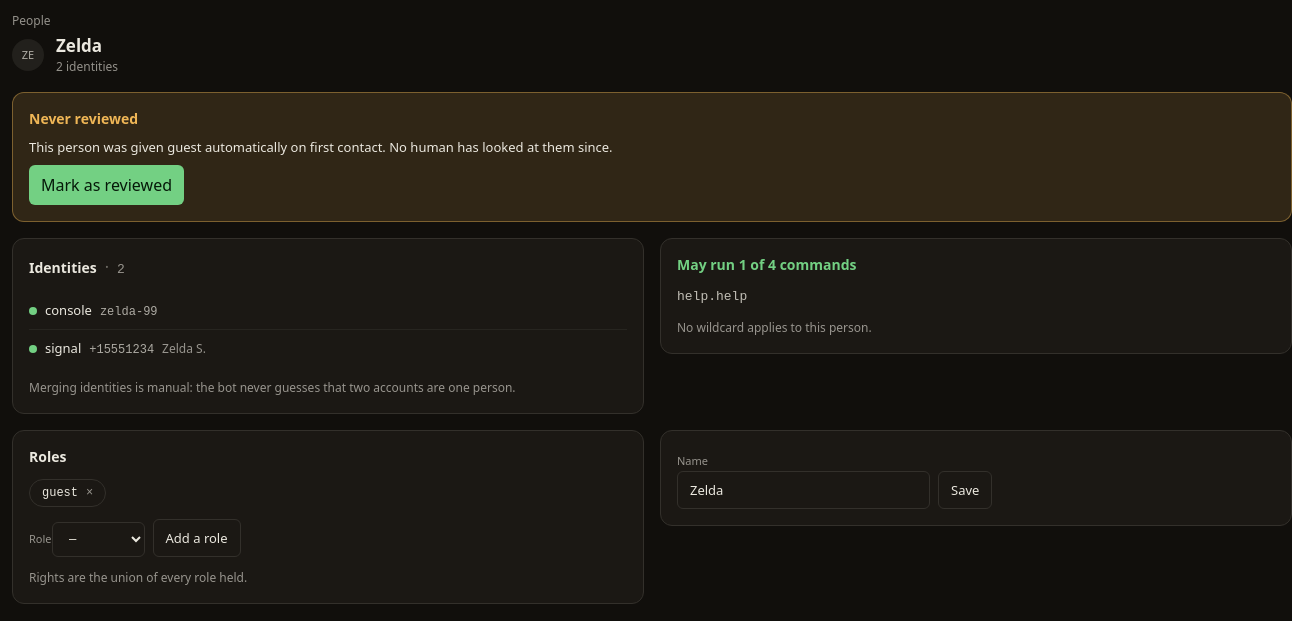
it: a person › offers "mark as reviewed" while unreviewed, and removes it once reviewed
The image size is (1292, 621).
Step 1. Click the button "Mark as reviewed" → (106, 185), box x1=29 y1=165 x2=184 y2=205
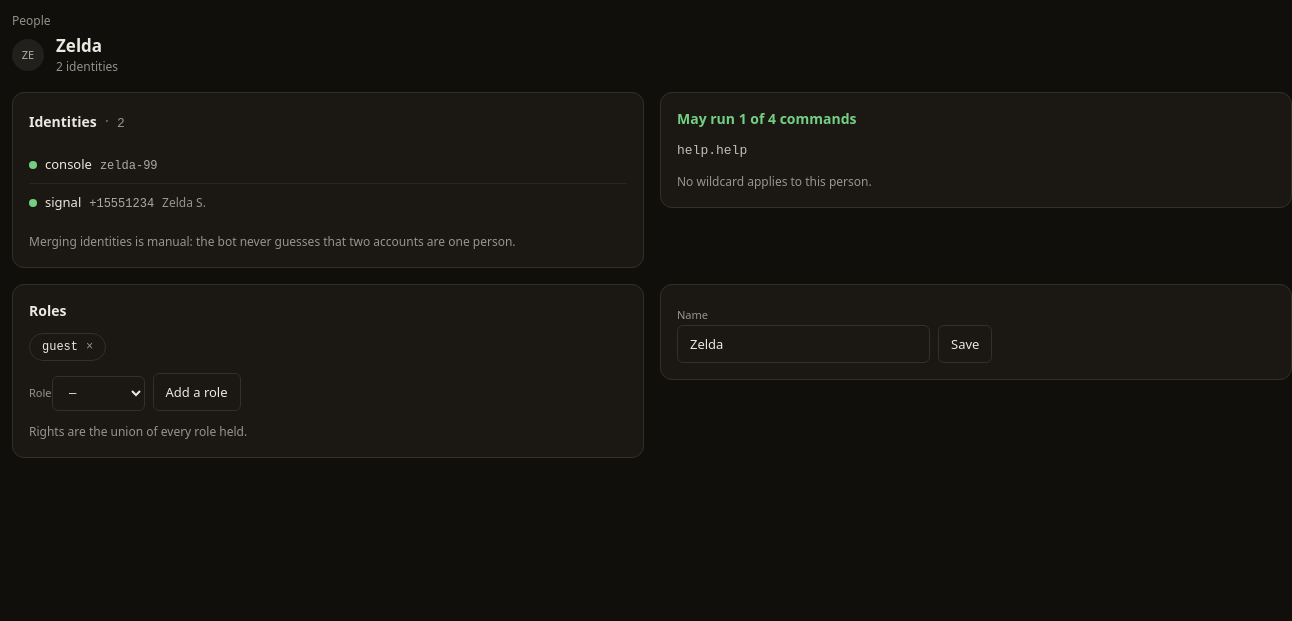
Check: the button "Mark as reviewed" is gone
